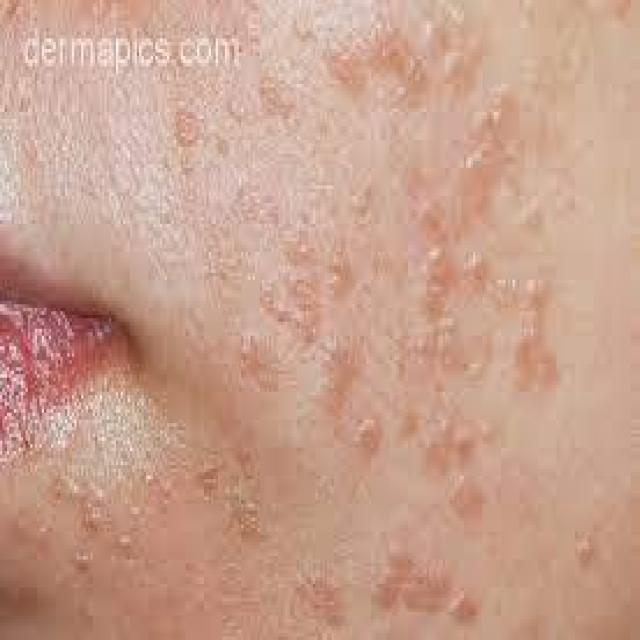flat_wart: (160, 14, 527, 193), (350, 224, 566, 480), (230, 206, 388, 405), (44, 434, 125, 636), (369, 535, 479, 632)
